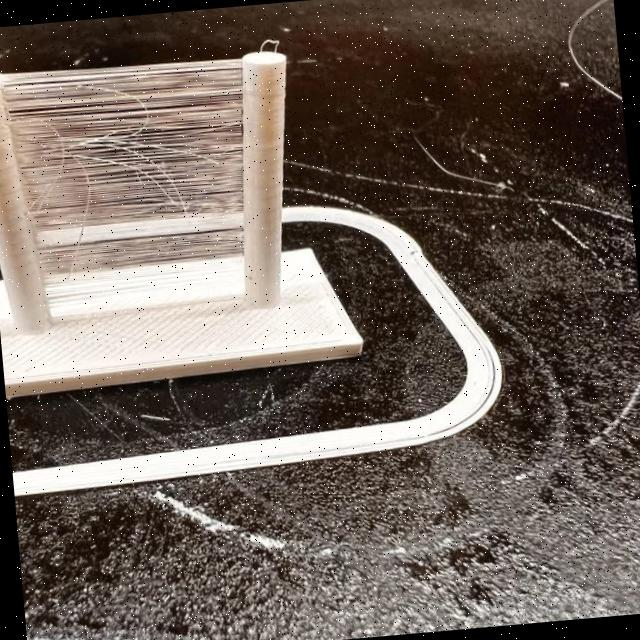stringing: (8, 56, 271, 276)
